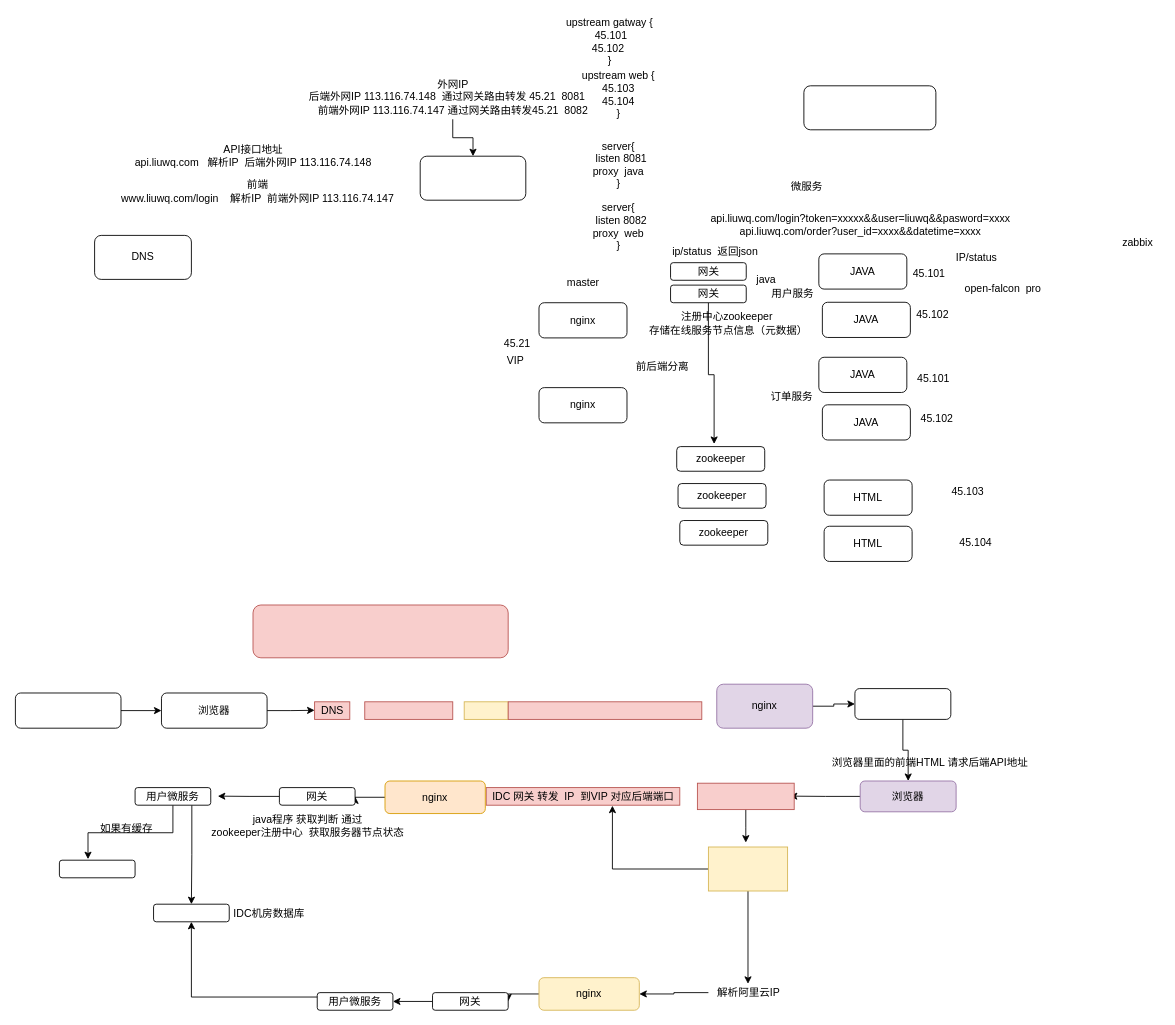
The diagram is 1175 pixels wide and 1025 high, and some of its shapes have lost their labels. The centre of each missing label's shape, as x and y in pixels:
api.liuwq.com 后端API接口地址: (x=745, y=796)
DNS轮询 IDC后端IP 阿里云后端IP: (x=748, y=868)
IDC 网关 转发 IP 到VIP 对应前端端口: (x=604, y=710)
IDC机房网关: (x=472, y=177)
mysql: (x=191, y=912)
redis: (x=97, y=868)
www.liuwq.com: (x=408, y=710)
前后端分离（微服务）网站混合云 请求流程: (x=380, y=631)
前端代码服务器: (x=902, y=703)
外网IP: (x=485, y=710)
更美APP系统架构拓扑: (x=869, y=107)
用户请求: (x=68, y=710)
